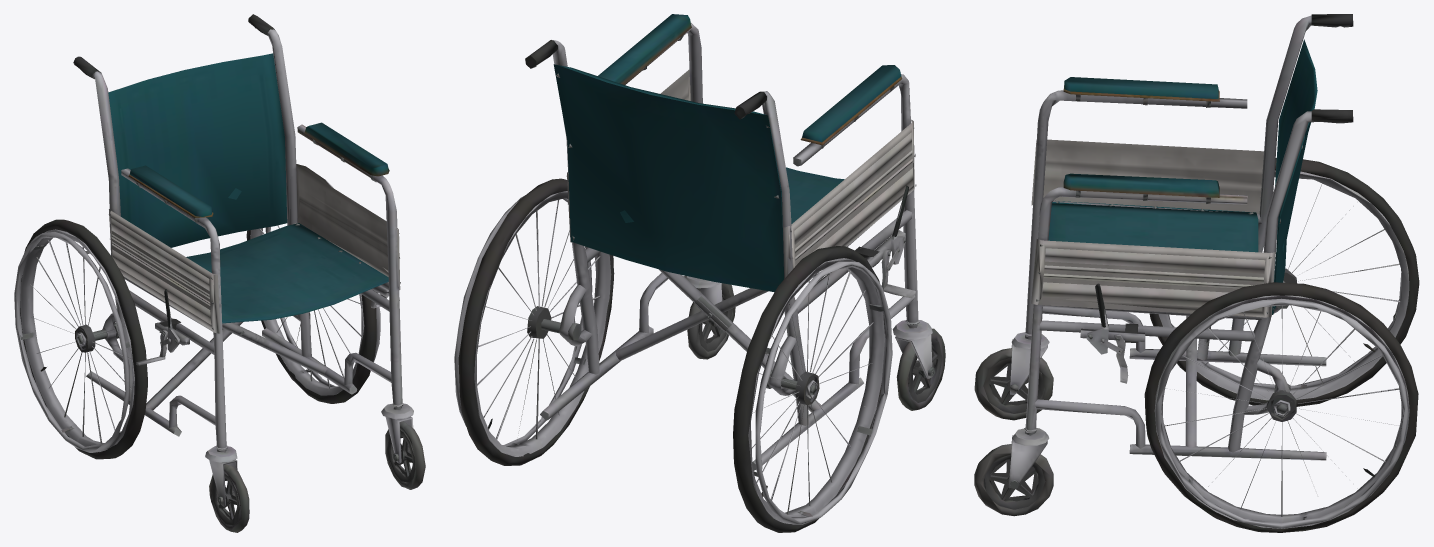
File: wheelchair_01.glb
3 views of the same model, side by side, from view 1: azimuth 30°, elevation 25°; view 2: azimuth 150°, elevation 25°; view 3: azimuth 270°, elevation 25° (orthographic). The views are drawn at different scales.
Parts seen in each view (by area): view 1: wheelchair_01; view 2: wheelchair_01; view 3: wheelchair_01.
Boxes of the visible parts, box(x1,y1,x2,y2) form: wheelchair_01: box(14, 14, 425, 532); wheelchair_01: box(454, 14, 945, 532); wheelchair_01: box(974, 14, 1419, 532).
Bounding box in the file's own units: 0.824 × 1.1 × 1.09.
Materials: 1 (1 with a texture image).
